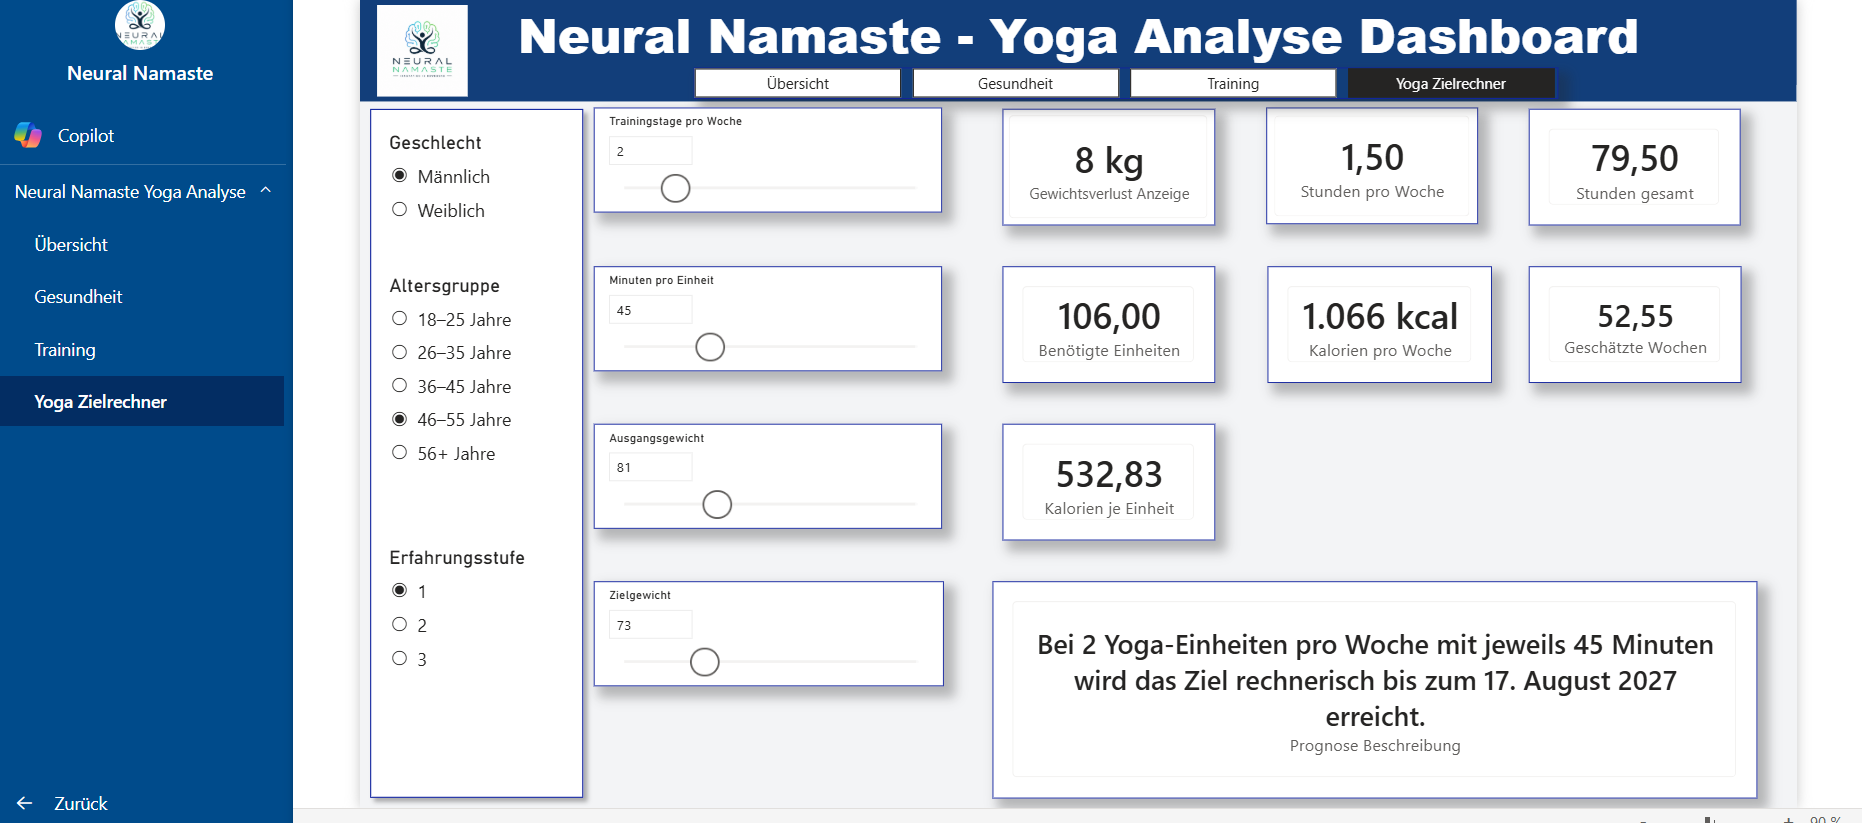

The page's visual inventory and layout, read from the dashboard file:
{"tool":"powerbi","page":{"name":"Yoga Zielrechner","canvas":[1280,720],"ordinal":4},"visuals":[{"type":"shape","title":" Neural Namaste - Yoga Analyse Dashboard ","box":[0,0,1280.4,90.4],"z":0},{"type":"shape","box":[0,88,208,632],"z":1000},{"type":"cardVisual","fields":{"Data":["M_Measures.Trainingsstunden pro Woche"]},"box":[807.9,95.8,188.8,104.2],"z":2000},{"type":"cardVisual","fields":{"Data":["M_Measures.Gewichtsverlust Anzeige"]},"box":[573,96.7,189.8,104.2],"z":3000},{"type":"image","box":[0,4.1,111.1,81.3],"z":4000},{"type":"listSlicer","fields":{"Values":["D_Geschlecht.Geschlecht"]},"box":[21.6,117.3,148.2,111.1],"z":5000},{"type":"listSlicer","fields":{"Values":["D_Alter.Altersgruppe"]},"box":[21.6,243.9,159.5,202.7],"z":6000},{"type":"listSlicer","fields":{"Values":["F_Training.Erfahrungsstufe"]},"box":[21.6,486.7,164.6,156.4],"z":7000},{"type":"pageNavigator","box":[297,60,770.1,28.1],"z":8000},{"type":"slicer","fields":{"Values":["Trainingstage pro Woche.Trainingstage pro Woche"]},"box":[208.4,95.8,310.7,94],"z":9000},{"type":"slicer","fields":{"Values":["Minuten pro Einheit.Minuten pro Einheit"]},"box":[208.4,237.2,310.7,94],"z":10000},{"type":"slicer","fields":{"Values":["Ausgangsgewicht.Ausgangsgewicht"]},"box":[208.4,377.7,310.7,94],"z":11000},{"type":"slicer","fields":{"Values":["Zielgewicht.Zielgewicht"]},"box":[208.4,518.1,311.6,94],"z":12000},{"type":"cardVisual","fields":{"Data":["M_Measures.Kalorien je gewählter Einheit"]},"box":[573,377.7,189.8,104.2],"z":13000},{"type":"cardVisual","fields":{"Data":["M_Measures.Kalorien pro Woche Anzeige"]},"box":[808.4,237.2,200,104.2],"z":14000},{"type":"cardVisual","fields":{"Data":["M_Measures.Geschätzte Wochen"]},"box":[1041.9,237.2,189.8,104.2],"z":15000},{"type":"cardVisual","fields":{"Data":["M_Measures.Benötigte Yoga-Einheiten"]},"box":[573,237.2,189.8,104.2],"z":16000},{"type":"cardVisual","fields":{"Data":["M_Measures.Trainingsstunden gesamt"]},"box":[1041.9,96.7,188.8,104.2],"z":17000},{"type":"cardVisual","fields":{"Data":["M_Measures.Prognose Beschreibung"]},"box":[563.7,518.1,681.9,193.5],"z":19000}]}

Visuals, with their boxes on the page's 1280x720 design canvas (x1, y1, x2, y2). These are canvas units, not pixel positions in the 1862x823 screenshot, which may show the page scaled, cropped or inside an application window:
" Neural Namaste - Yoga Analyse Dashboard " shape: [0, 0, 1280, 90]
shape: [0, 88, 208, 720]
cardVisual - M_Measures.Trainingsstunden pro Woche: [808, 96, 997, 200]
cardVisual - M_Measures.Gewichtsverlust Anzeige: [573, 97, 763, 201]
image: [0, 4, 111, 85]
listSlicer - D_Geschlecht.Geschlecht: [22, 117, 170, 228]
listSlicer - D_Alter.Altersgruppe: [22, 244, 181, 447]
listSlicer - F_Training.Erfahrungsstufe: [22, 487, 186, 643]
pageNavigator: [297, 60, 1067, 88]
slicer - Trainingstage pro Woche.Trainingstage pro Woche: [208, 96, 519, 190]
slicer - Minuten pro Einheit.Minuten pro Einheit: [208, 237, 519, 331]
slicer - Ausgangsgewicht.Ausgangsgewicht: [208, 378, 519, 472]
slicer - Zielgewicht.Zielgewicht: [208, 518, 520, 612]
cardVisual - M_Measures.Kalorien je gewählter Einheit: [573, 378, 763, 482]
cardVisual - M_Measures.Kalorien pro Woche Anzeige: [808, 237, 1008, 341]
cardVisual - M_Measures.Geschätzte Wochen: [1042, 237, 1232, 341]
cardVisual - M_Measures.Benötigte Yoga-Einheiten: [573, 237, 763, 341]
cardVisual - M_Measures.Trainingsstunden gesamt: [1042, 97, 1231, 201]
cardVisual - M_Measures.Prognose Beschreibung: [564, 518, 1246, 712]
